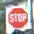stopsign: (8, 8, 29, 28)
